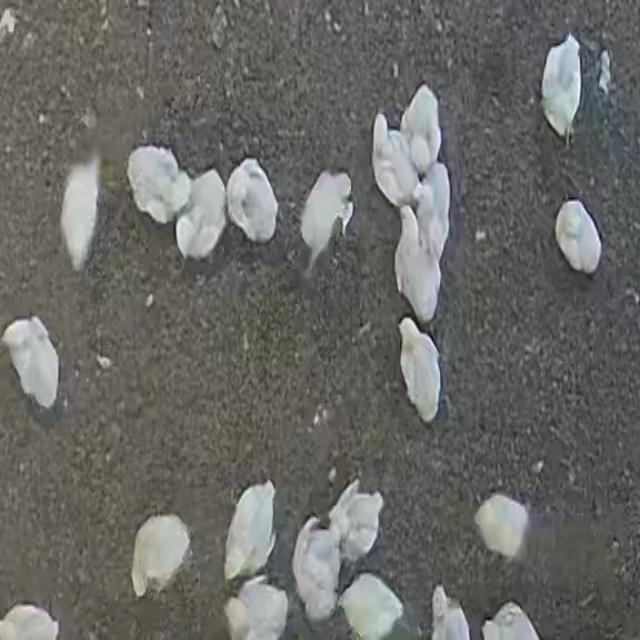chicken: (390, 205, 441, 322), (221, 480, 282, 576), (126, 514, 193, 596), (294, 518, 343, 627), (1, 318, 58, 411), (170, 171, 227, 263), (540, 31, 585, 147), (393, 316, 442, 422), (362, 112, 413, 200), (302, 171, 353, 259), (223, 162, 277, 245), (125, 147, 183, 223), (338, 575, 402, 640), (552, 198, 602, 278), (330, 484, 383, 556), (473, 491, 525, 561), (222, 582, 284, 640), (414, 161, 449, 252), (408, 82, 442, 175), (65, 159, 93, 270), (473, 603, 547, 640), (425, 584, 473, 640), (0, 600, 60, 640)
